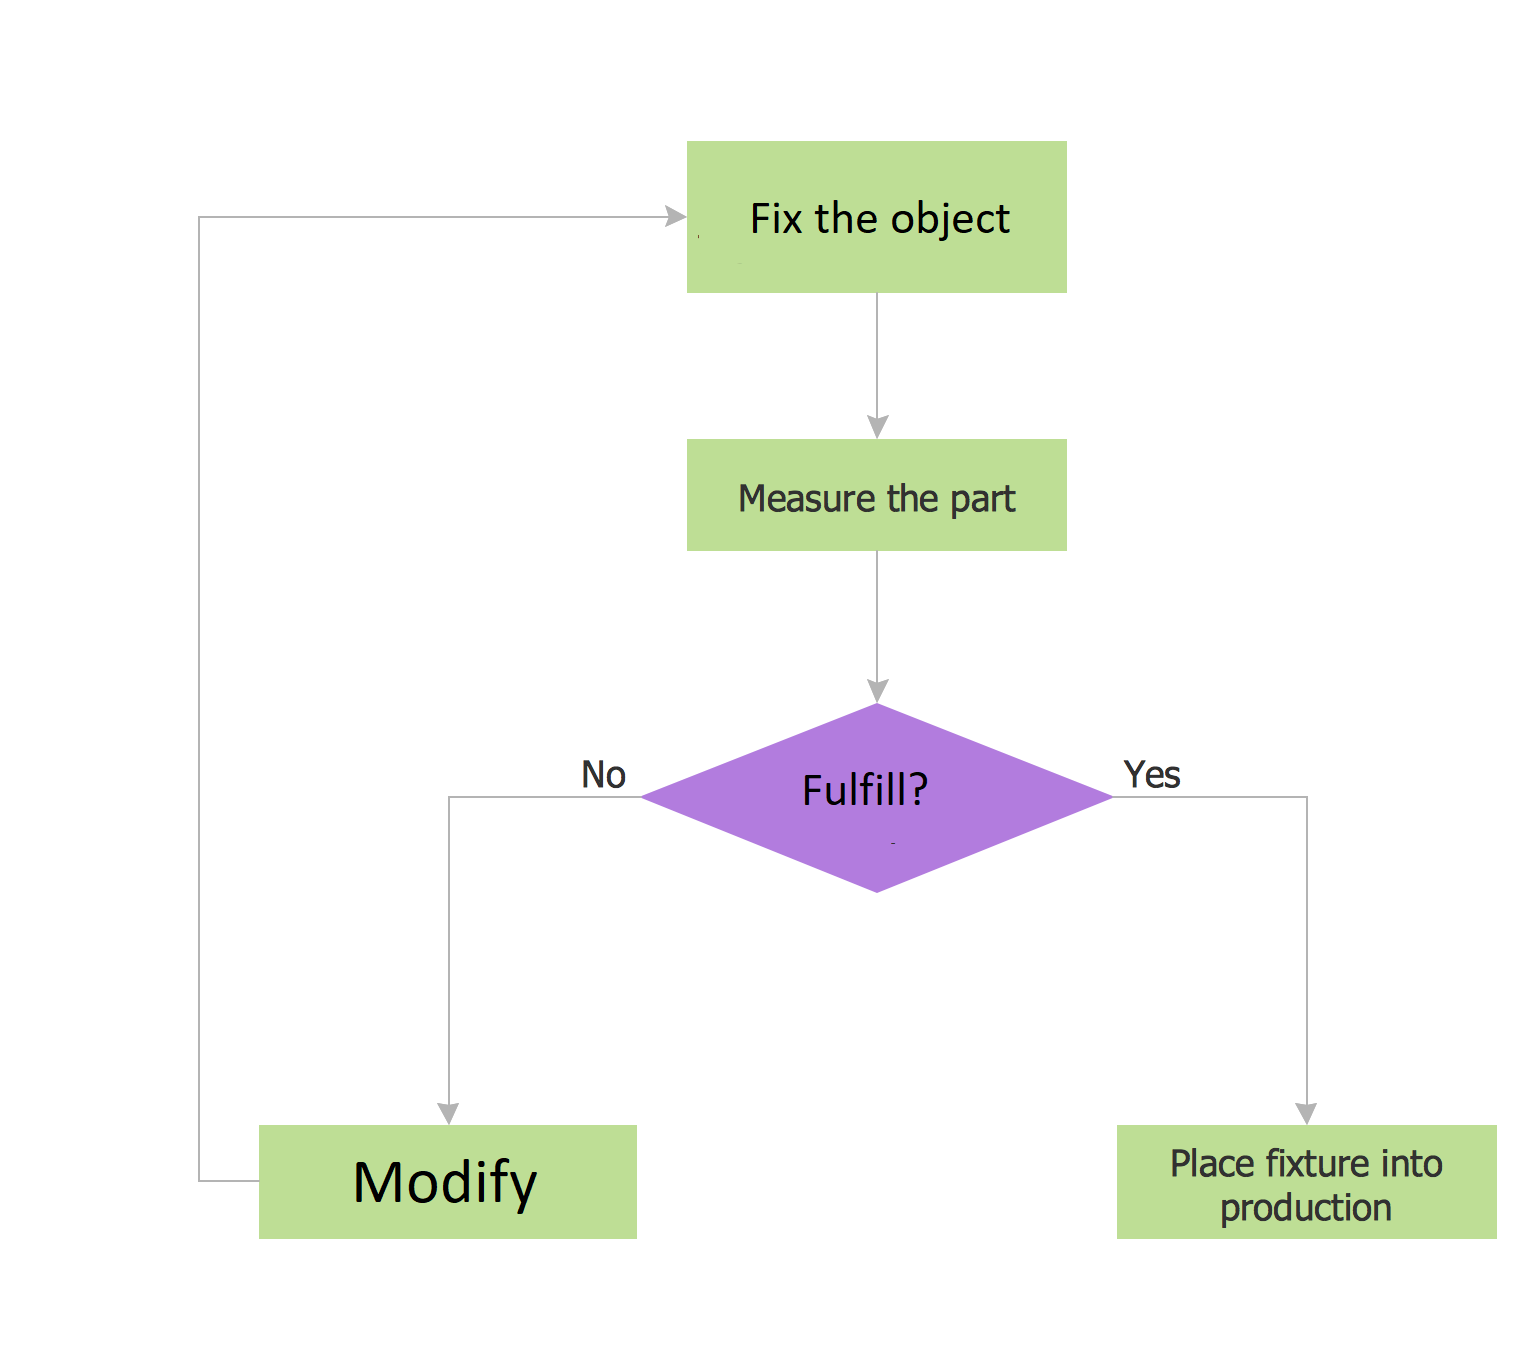arrow: (185, 205, 689, 1188), (433, 786, 651, 1124), (1108, 782, 1318, 1124), (860, 545, 895, 707), (862, 288, 893, 440)
decision: (631, 699, 1124, 894)
process: (679, 128, 1081, 301), (1112, 1118, 1506, 1249), (245, 1121, 645, 1246), (681, 429, 1070, 557)
text: (1162, 1145, 1446, 1231), (743, 192, 1008, 247), (731, 478, 1020, 526), (345, 1151, 540, 1219), (795, 765, 927, 816), (570, 750, 631, 796), (1120, 753, 1185, 793)
